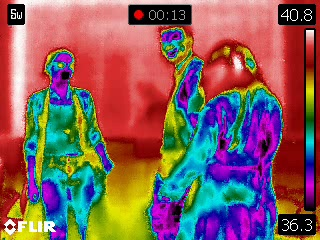human: (163, 38, 284, 240), (25, 45, 116, 240), (150, 26, 208, 240)
